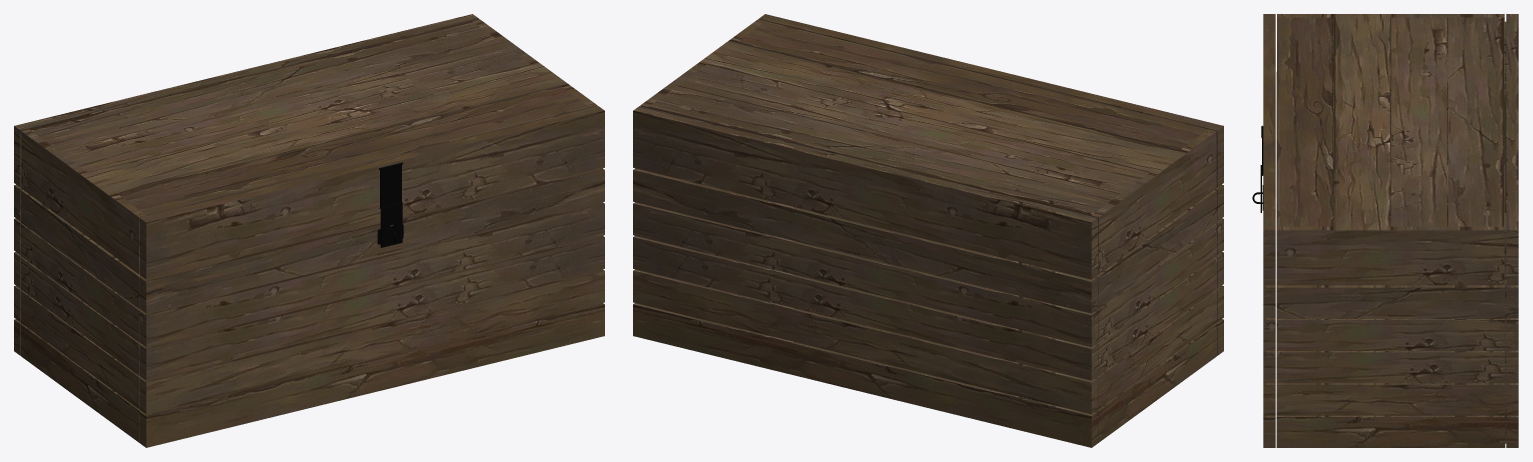
Rendered from bau.fbx.
The picture shows the model from 3 angles, left to right: view 1: azimuth 30°, elevation 25°; view 2: azimuth 150°, elevation 25°; view 3: azimuth 270°, elevation 25°; orthographic projection. The views are drawn at different scales.
Parts seen in each view (by area): view 1: Bau.005, Bau.001, Trava 2; view 2: Bau.005, Bau.001; view 3: Bau.001, Bau.005.
Boxes of the visible parts, x1,y1,x2,y2 form: Bau.005: [14, 168, 604, 447]; Bau.001: [14, 14, 604, 279]; Trava 2: [380, 203, 402, 247]; Bau.005: [633, 168, 1223, 447]; Bau.001: [633, 14, 1223, 279]; Bau.001: [1261, 14, 1518, 285]; Bau.005: [1252, 72, 1518, 447].
Bounding box in the file's own units: 273 × 128 × 142.
